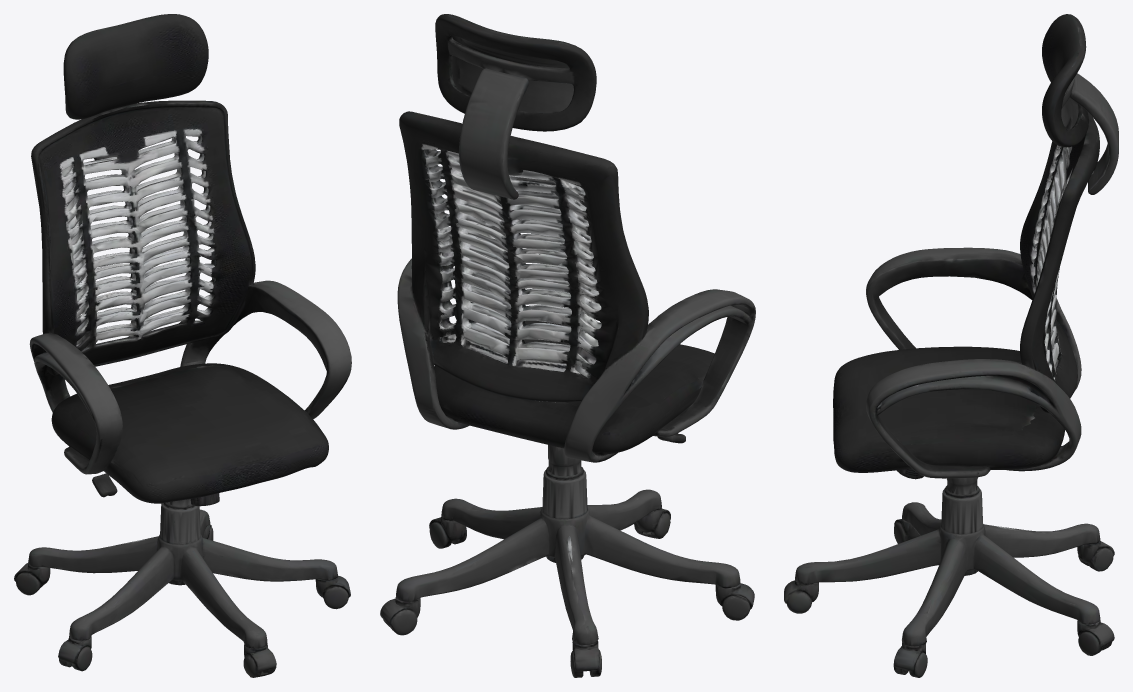
File: chair2.glb
3 renders of one model, left to right at view 1: azimuth 30°, elevation 25°; view 2: azimuth 150°, elevation 25°; view 3: azimuth 270°, elevation 25°, orthographic. The views are drawn at different scales.
Parts seen in each view (by area): view 1: node_0; view 2: node_0; view 3: node_0.
Part boxes in pixels (x1,y1,x2,y2): node_0: (14, 14, 351, 677); node_0: (380, 14, 755, 677); node_0: (784, 14, 1118, 677).
Bounding box in the file's own units: 0.573 × 1.04 × 0.5549.
1 material, 1 textured.
